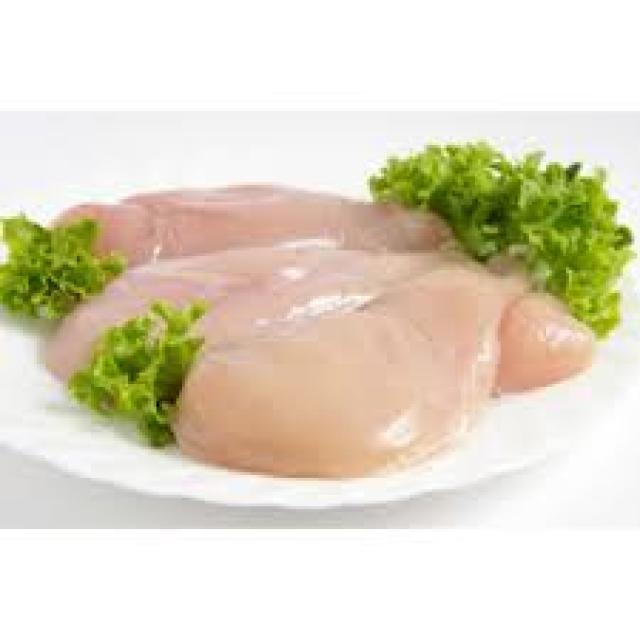chicken: (27, 248, 610, 476), (32, 172, 476, 261)
